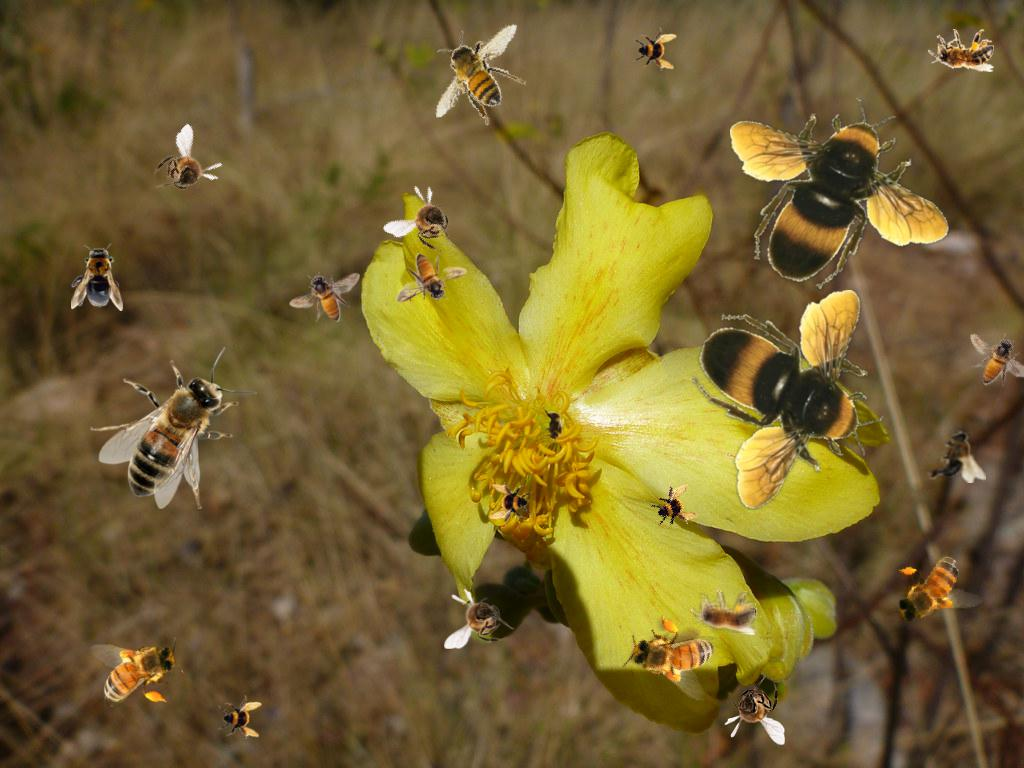Bee: (692, 290, 883, 510), (730, 98, 950, 289), (90, 347, 257, 509), (420, 6, 541, 138), (617, 604, 731, 707), (877, 543, 987, 636), (140, 122, 233, 216), (382, 176, 473, 264), (89, 636, 185, 709), (956, 316, 1024, 403), (724, 675, 785, 745), (444, 588, 514, 649), (643, 476, 703, 536), (926, 26, 996, 77), (396, 253, 467, 303), (289, 272, 360, 322), (71, 243, 123, 311), (924, 430, 986, 483), (691, 590, 757, 635), (218, 695, 262, 739), (633, 27, 677, 71), (489, 482, 533, 526), (543, 406, 565, 446)
